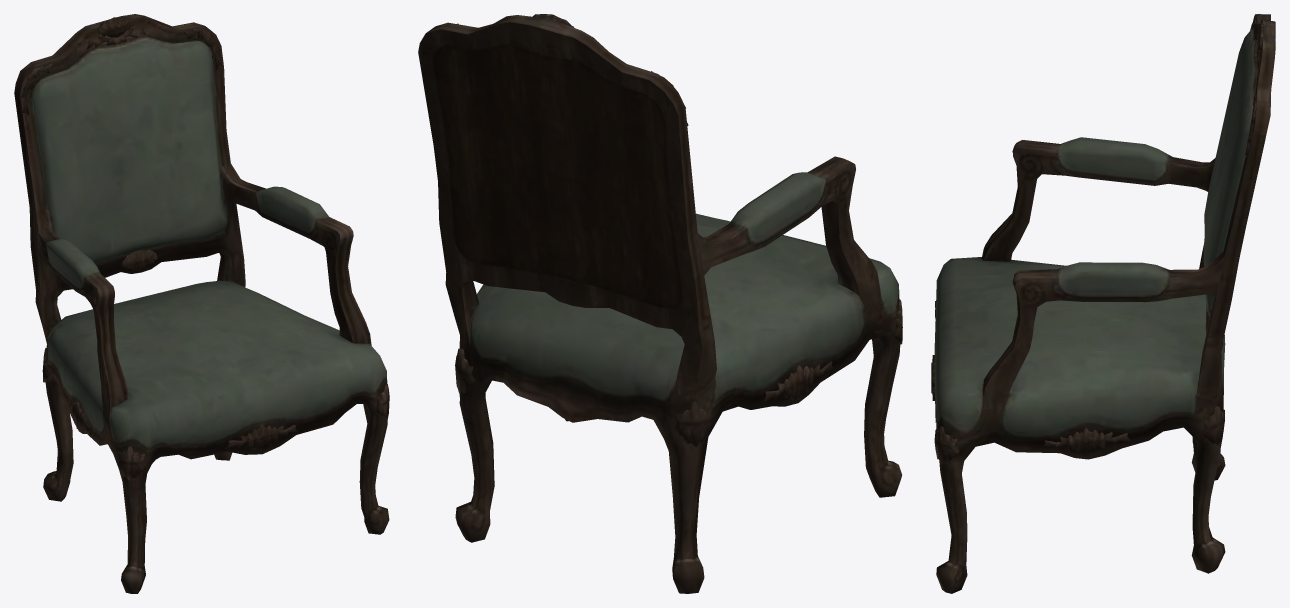
The model's file is GreenChair_01.glb.
The picture shows the model from 3 angles, left to right: view 1: azimuth 30°, elevation 25°; view 2: azimuth 150°, elevation 25°; view 3: azimuth 270°, elevation 25°; orthographic projection. The views are drawn at different scales.
Visible parts, largest first — view 1: GreenChair_01; view 2: GreenChair_01; view 3: GreenChair_01.
Part boxes in pixels (x1,y1,x2,y2): GreenChair_01: (14,14,389,593); GreenChair_01: (418,14,902,593); GreenChair_01: (931,14,1275,593).
Size of the model in its own units: 0.6723 by 1.06 by 0.6644.
Materials: 1 (1 with a texture image).
